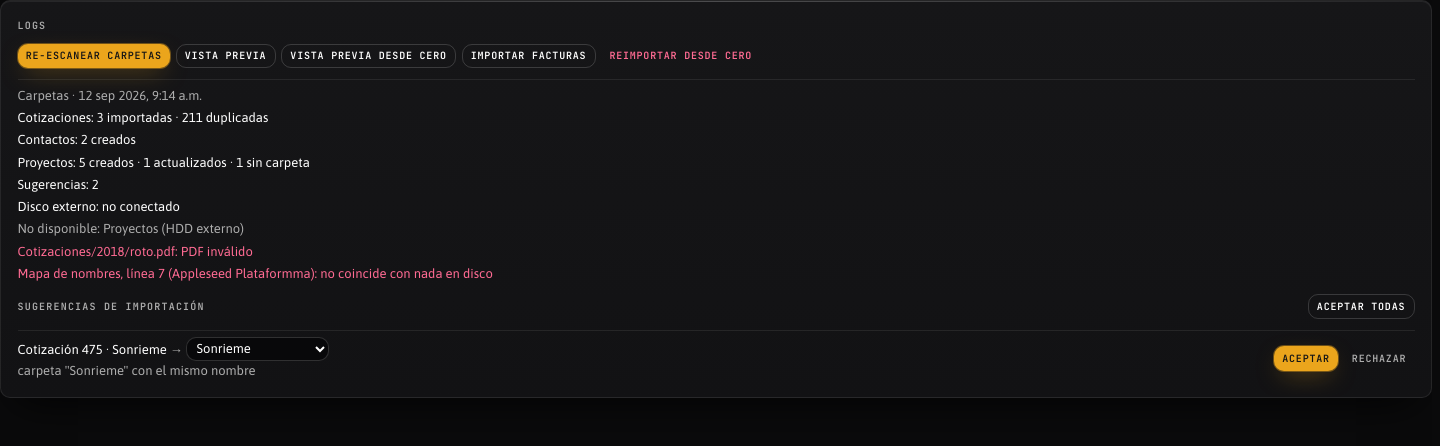
it: Configuración → Logs › reloads the opciones after a refused answer, back on the guess
The image size is (1440, 446).
Select "Sonrieme Branding" in the dropdown named "Vincular a" at (258, 349), box [186,336,329,361]
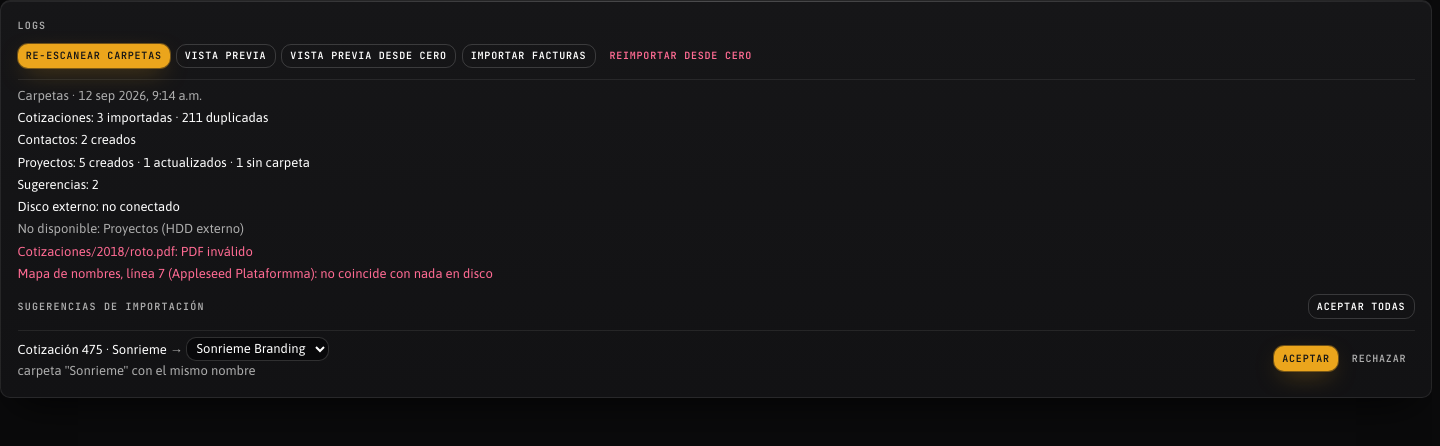
Click the button "Aceptar".
click(1306, 359)  # box [1274,346,1338,371]
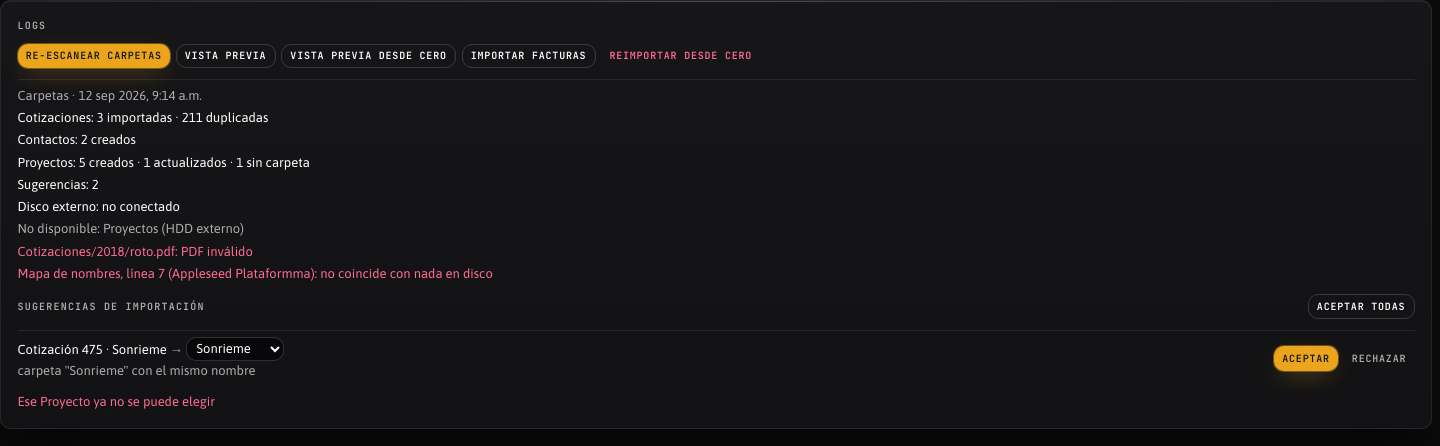
Check: the option "Sonrieme Branding" is not shown
Check: the message "Ese Proyecto ya no se puede elegir" is shown, box [18,394,215,409]
